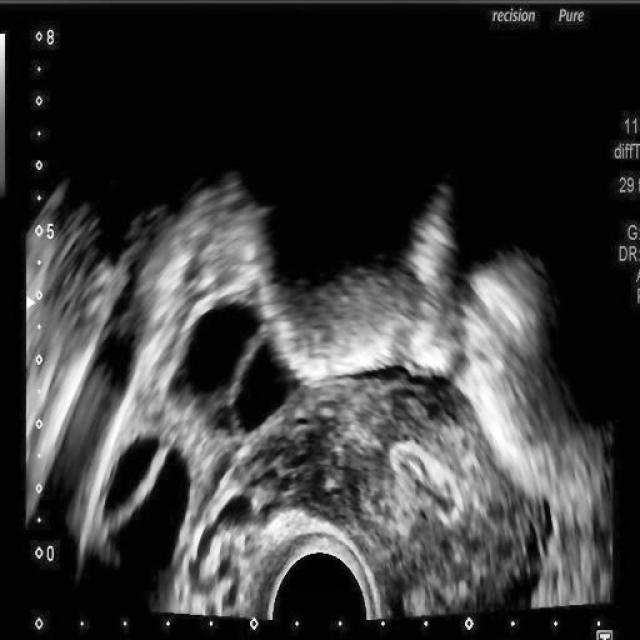viable embryo: (24, 168, 616, 621)
